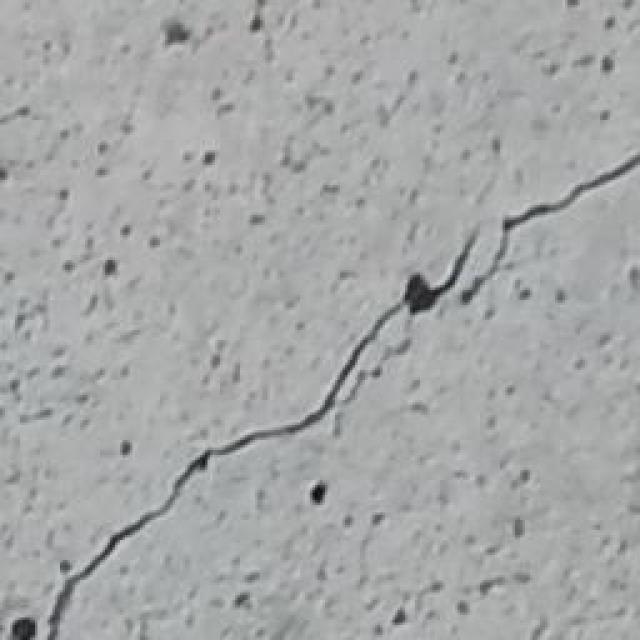concrete-crack: (45, 225, 480, 640), (458, 150, 640, 305)
